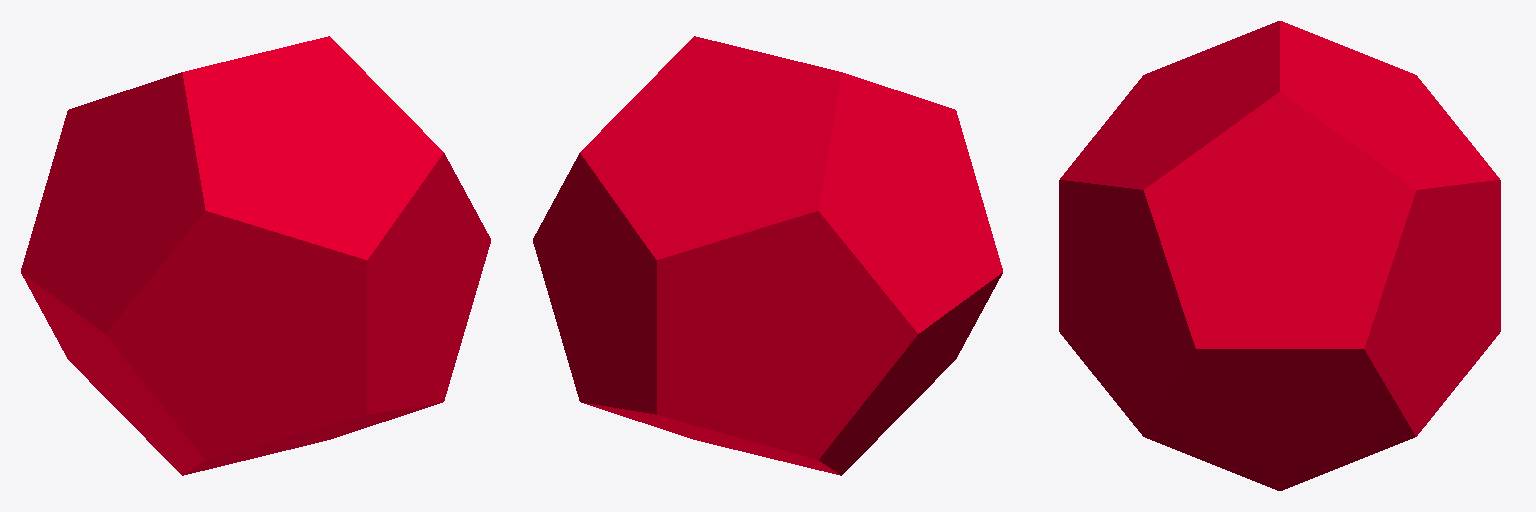
URDF robot description (dodecahedron.urdf):
<?xml version="1.0" ?>
<robot name="dodecahedron.urdf">

  <link name="dodecahedron">
    <contact>
    	<friction_anchor/>
    	   <lateral_friction value="1.0"/>
    </contact>
    <inertial>
      <origin rpy="0 0 0" xyz="0 0 0"/>
       <mass value=".1"/>
       <inertia ixx="1" ixy="0" ixz="0" iyy="1" iyz="0" izz="1"/>
    </inertial>
    <visual>
      <origin rpy="0 0 0" xyz="0 0 0"/>
      <geometry>
				<mesh filename="dodecahedron.obj" scale="1.0 1.0 1.0"/>
      </geometry>
       <material name="red">
        <color rgba="0.9 0 0.2 1.0"/>
      </material>
    </visual>
    <collision>
      <origin rpy="0 0 0" xyz="0 0 0"/>
      <geometry>
				<mesh filename="dodecahedron.obj" scale="1.0 1.0 1.0"/>
      </geometry>
    </collision>
  </link>


</robot>

--- What the picture shows (computed from the rendered views, not written in the file) ---
3 views of the same robot in one strip: view 1: azimuth 30°, elevation 25°; view 2: azimuth 150°, elevation 25°; view 3: azimuth 270°, elevation 25° (orthographic).
Model dodecahedron.urdf with 1 links and 0 joints (none), rooted at dodecahedron, posed every joint at zero.
Visible links, largest first — view 1: dodecahedron; view 2: dodecahedron; view 3: dodecahedron.
Boxes of the visible links, left/top/right/bottom form: dodecahedron: left=21, top=36, right=490, bottom=475; dodecahedron: left=533, top=36, right=1002, bottom=475; dodecahedron: left=1059, top=21, right=1500, bottom=490.
Size in the robot's own frame: 0.1 by 0.1 by 0.1 metres.
1 mesh visuals loaded from 1 distinct referenced files (1 OBJ).